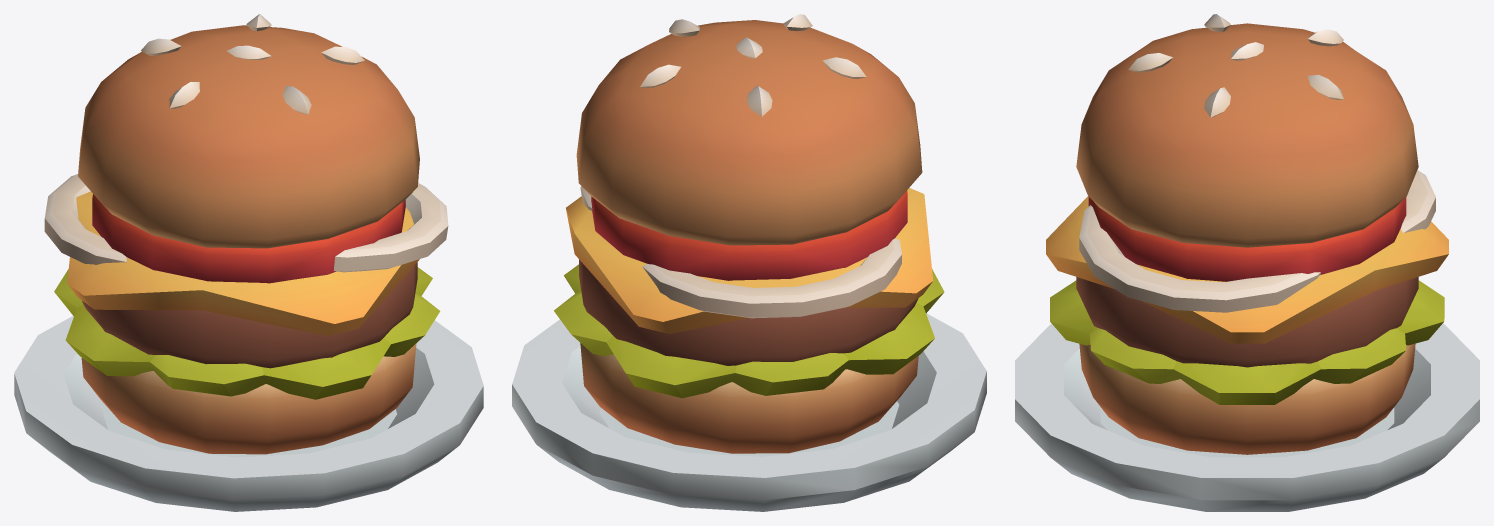
File: hamburger.glb
The picture shows the model from 3 angles, left to right: view 1: azimuth 30°, elevation 25°; view 2: azimuth 150°, elevation 25°; view 3: azimuth 270°, elevation 25°; orthographic projection.
Parts seen in each view (by area): view 1: food_burger; view 2: food_burger; view 3: food_burger.
Boxes of the visible parts, x1=… form: food_burger: x1=14, y1=14, x2=483, y2=511; food_burger: x1=512, y1=14, x2=986, y2=511; food_burger: x1=1015, y1=14, x2=1479, y2=511.
Size of the model in its own units: 0.95 by 0.8572 by 0.95.
Materials: 1 (1 with a texture image).
